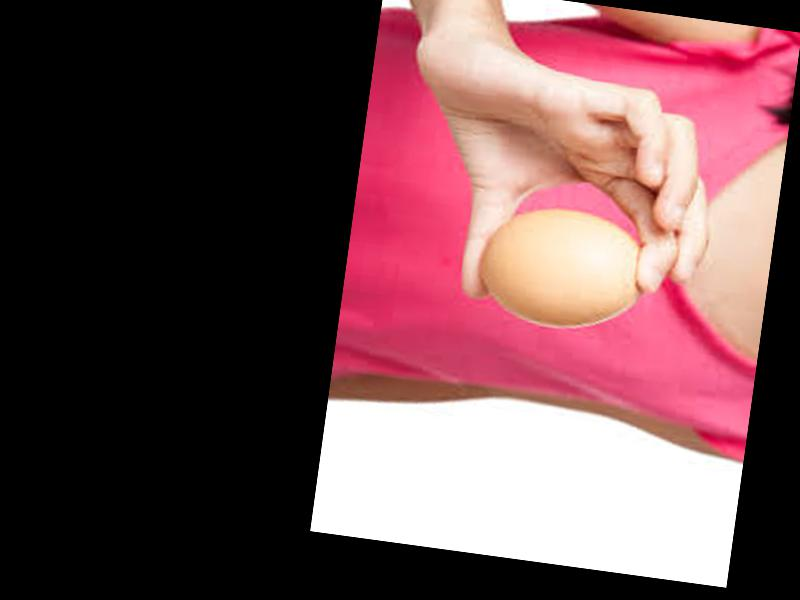Eggs: (475, 199, 655, 337)
